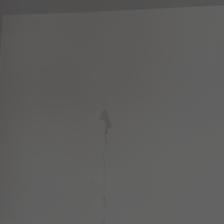Medium: (82, 106, 130, 209)
